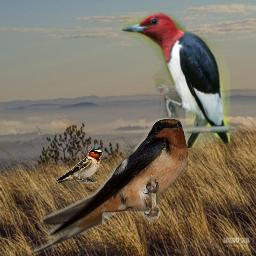Swallow: (23, 118, 188, 253), (55, 148, 103, 184)
Woodpecker: (121, 12, 230, 148)
